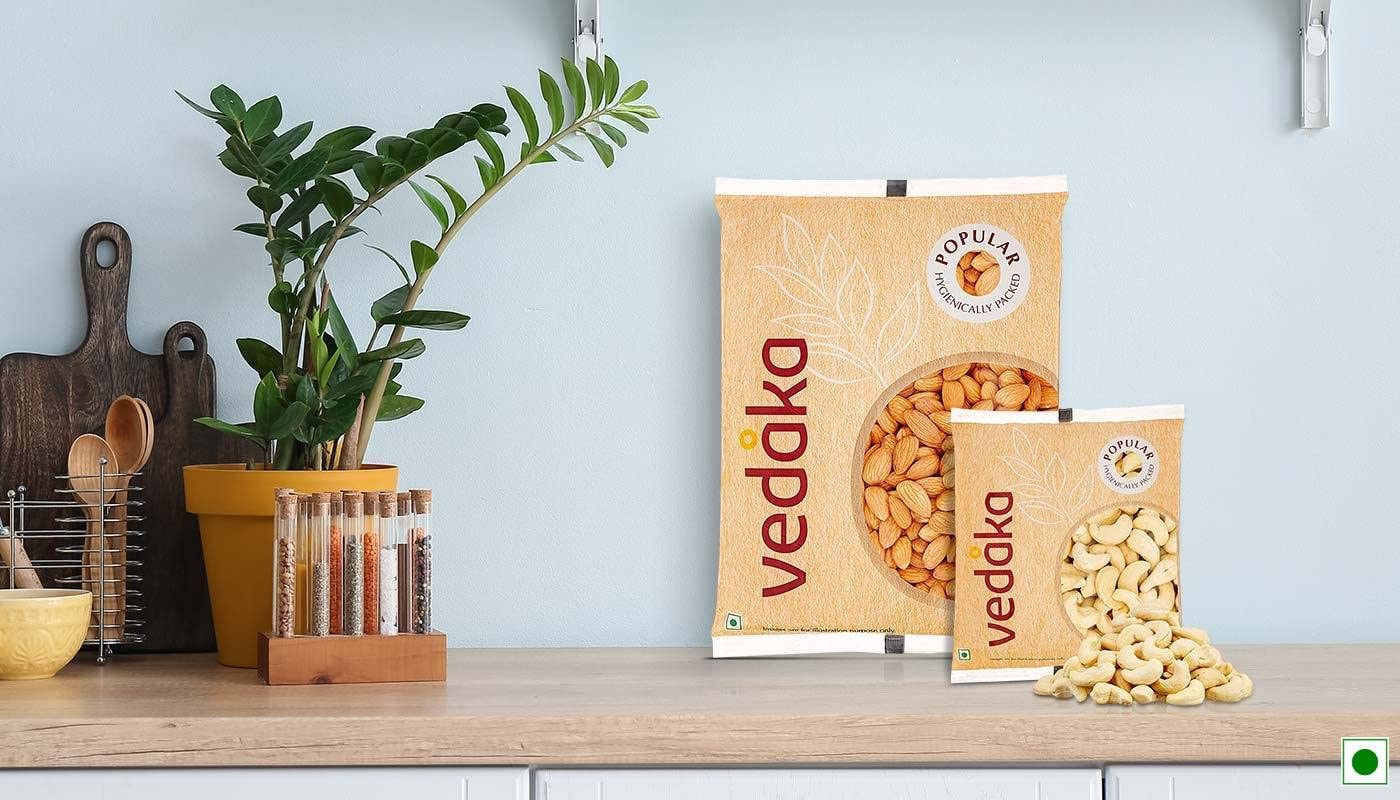veg: (1334, 732, 1390, 797)
